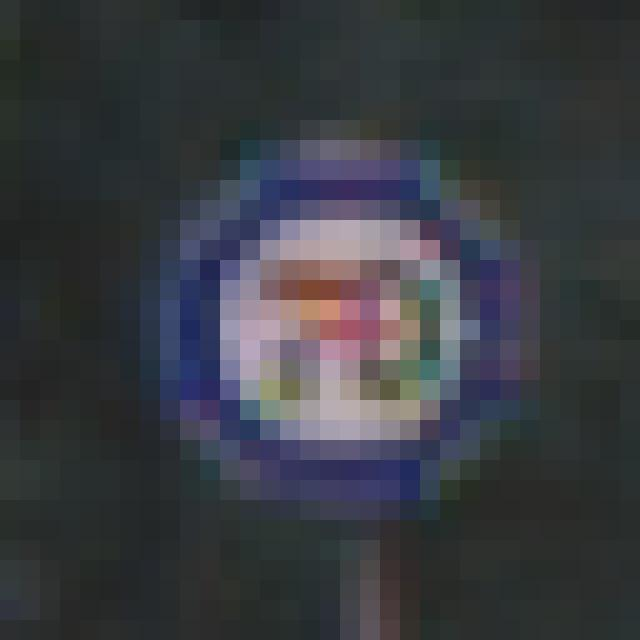SPEED LIMIT 70: (147, 148, 545, 530)
